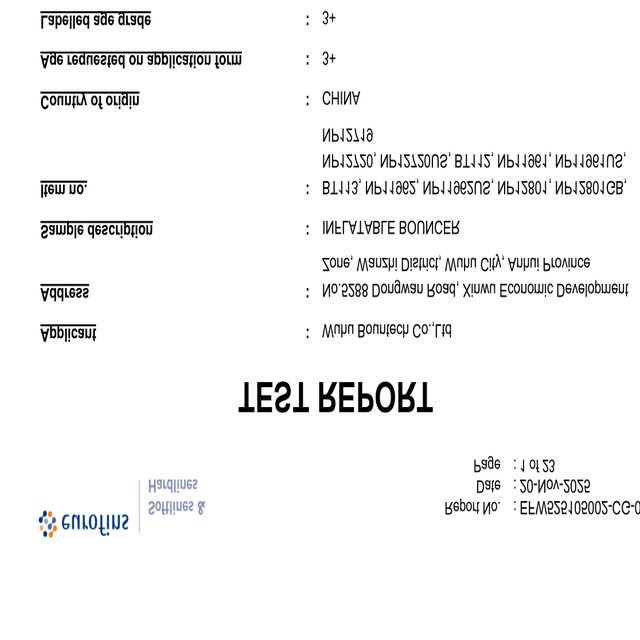eurofins: (32, 507, 132, 541)
